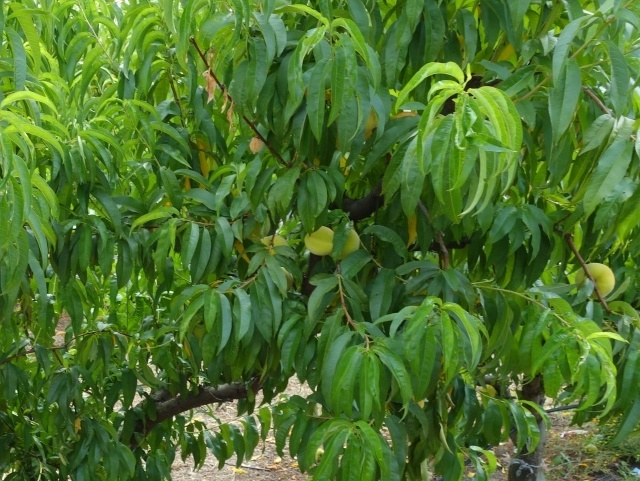peach: (572, 257, 617, 301), (302, 222, 338, 259), (336, 222, 363, 259)
